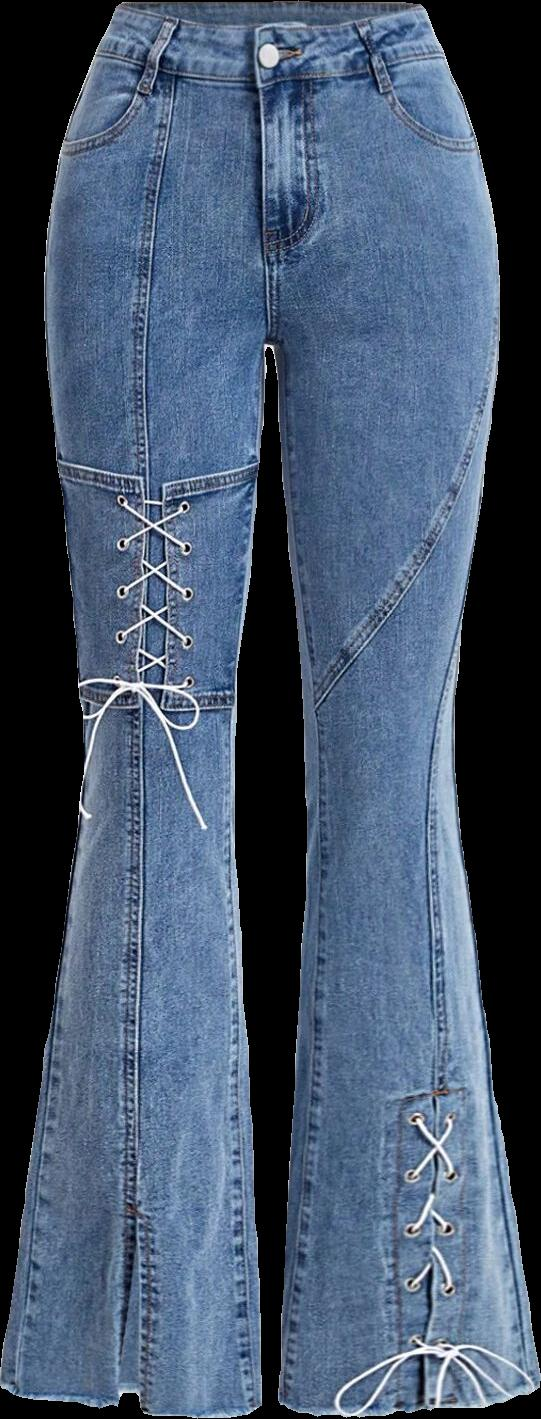Hemline: (0, 1369, 268, 1418), (274, 1371, 540, 1418)
Pantleg: (256, 4, 540, 1415), (0, 3, 267, 1415)
Waistline: (110, 74, 180, 1407), (302, 336, 507, 718), (416, 639, 472, 1410), (94, 41, 443, 101), (115, 0, 436, 37)
